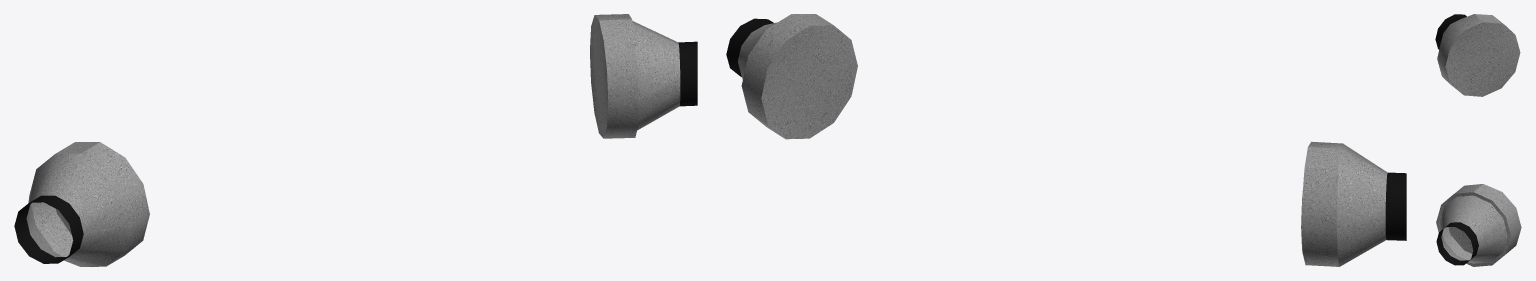
File: FBX_ModuleEmptyConnector.fbx
The picture shows the model from 3 angles, left to right: view 1: azimuth 30°, elevation 25°; view 2: azimuth 150°, elevation 25°; view 3: azimuth 270°, elevation 25°; orthographic projection. The views are drawn at different scales.
Parts seen in each view (by area): view 1: Module Empty Connector Export; view 2: Module Empty Connector Export; view 3: Module Empty Connector Export.
Boxes of the visible parts, x1,y1,x2,y2 form: Module Empty Connector Export: (14, 14, 697, 266); Module Empty Connector Export: (726, 14, 1406, 266); Module Empty Connector Export: (1435, 14, 1521, 266).
Bounding box in the file's own units: 8.34 × 1.38 × 1.32.
